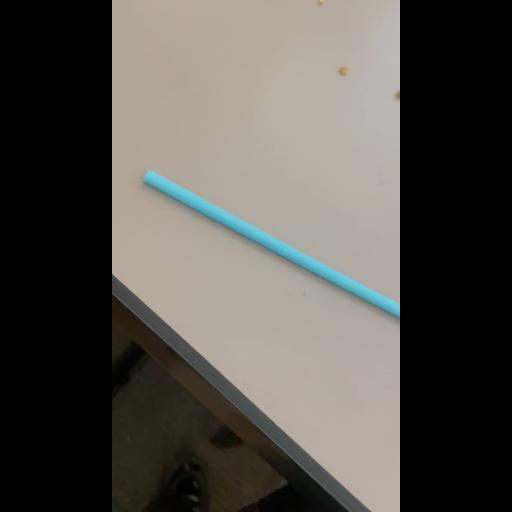straw: (144, 162, 400, 330)
